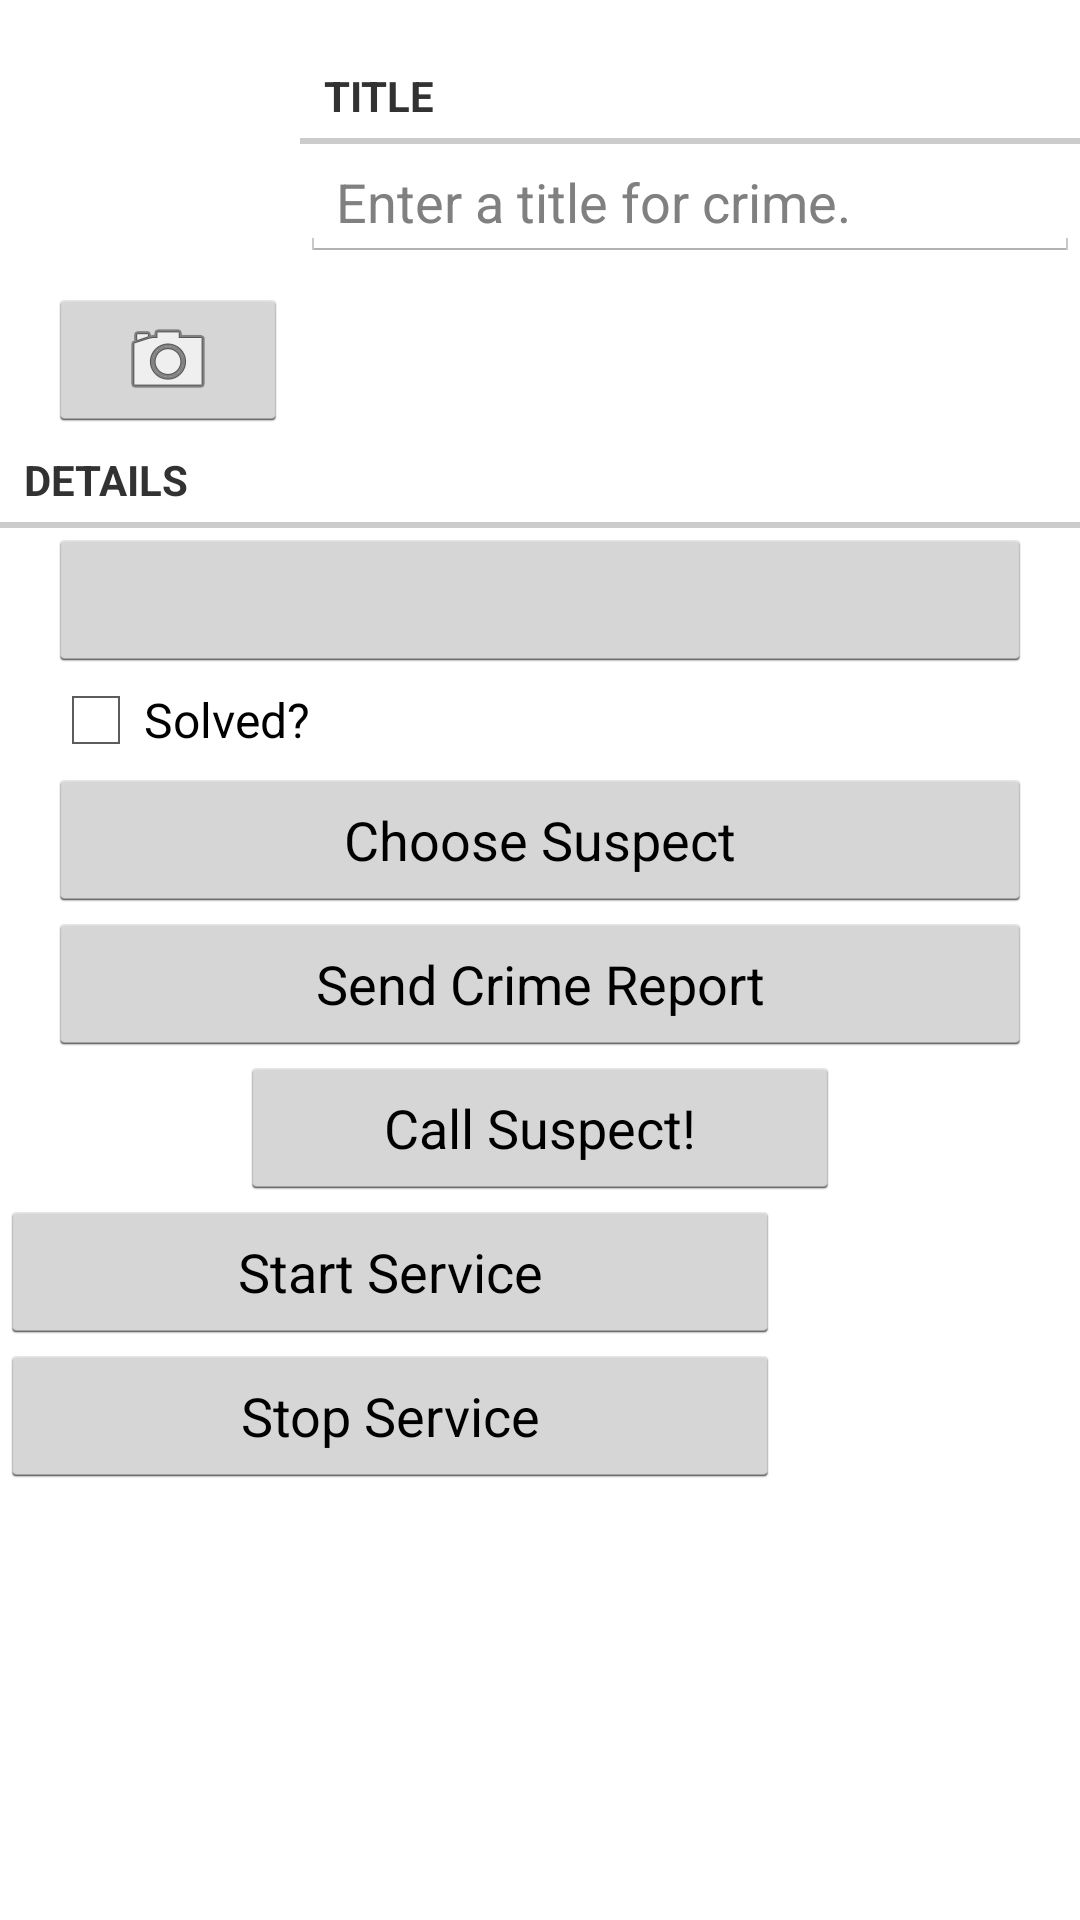

Screen size 1080px x 1920px. Icon name, then its center in pixels as (x=x, y=y):
camera: (x=168, y=361)
